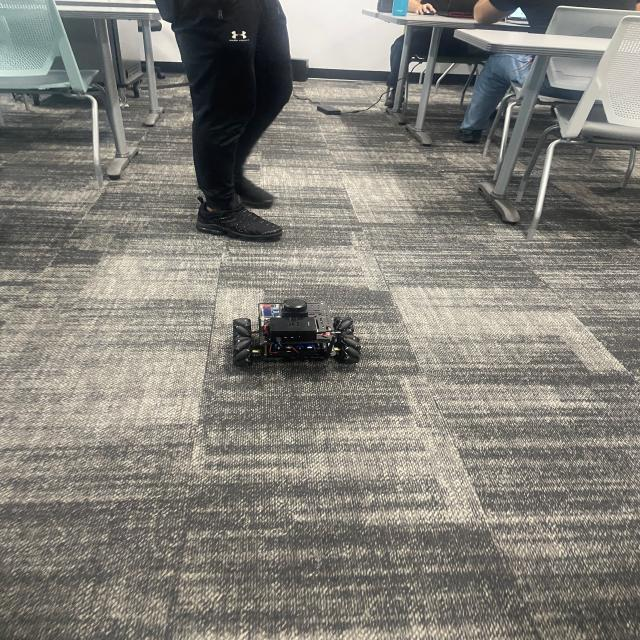ArduinoCar3: (225, 295, 366, 373)
